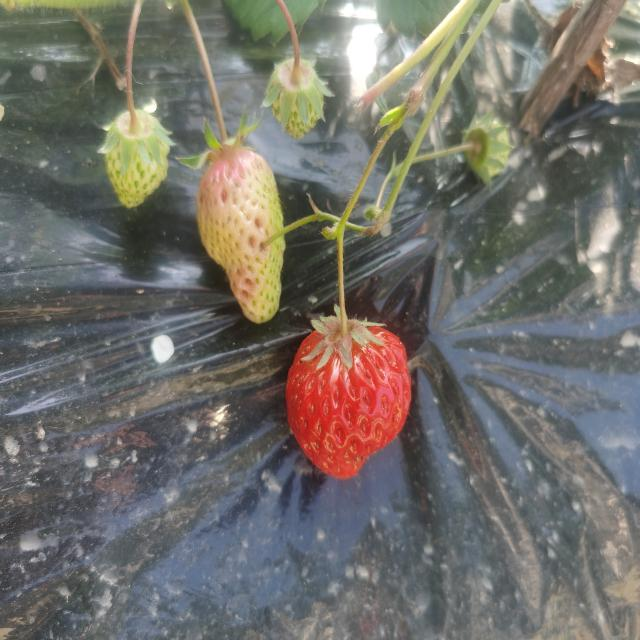stem: (338, 267, 348, 339)
strawberry: (285, 320, 411, 478)
